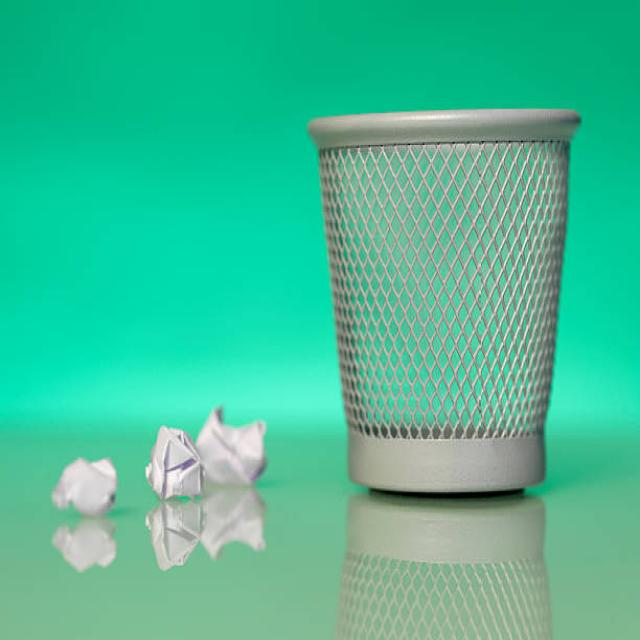metal: (298, 100, 630, 495)
paper: (134, 413, 208, 502), (52, 443, 121, 530)
